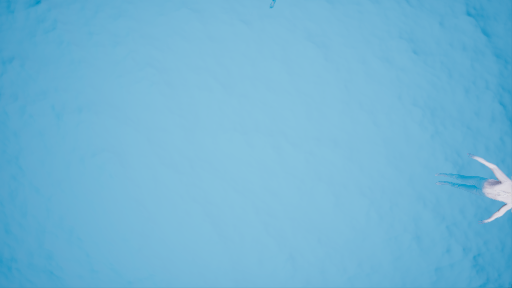person: (444, 151, 512, 225)
